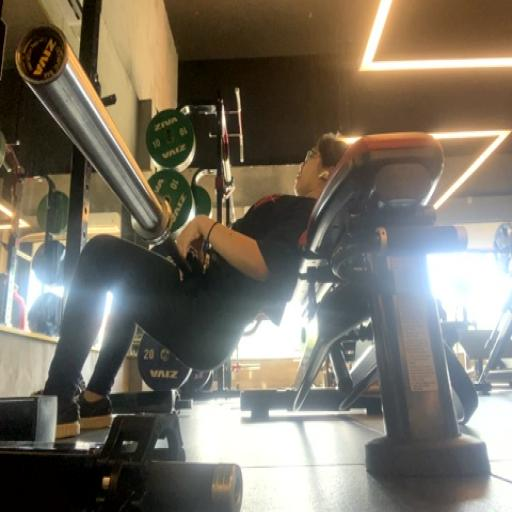exercise: (32, 131, 353, 441)
